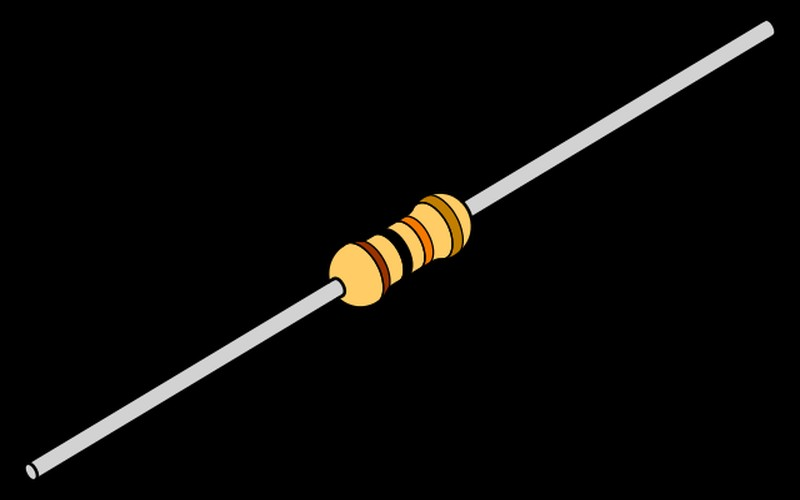Resistor: (288, 170, 496, 336)
